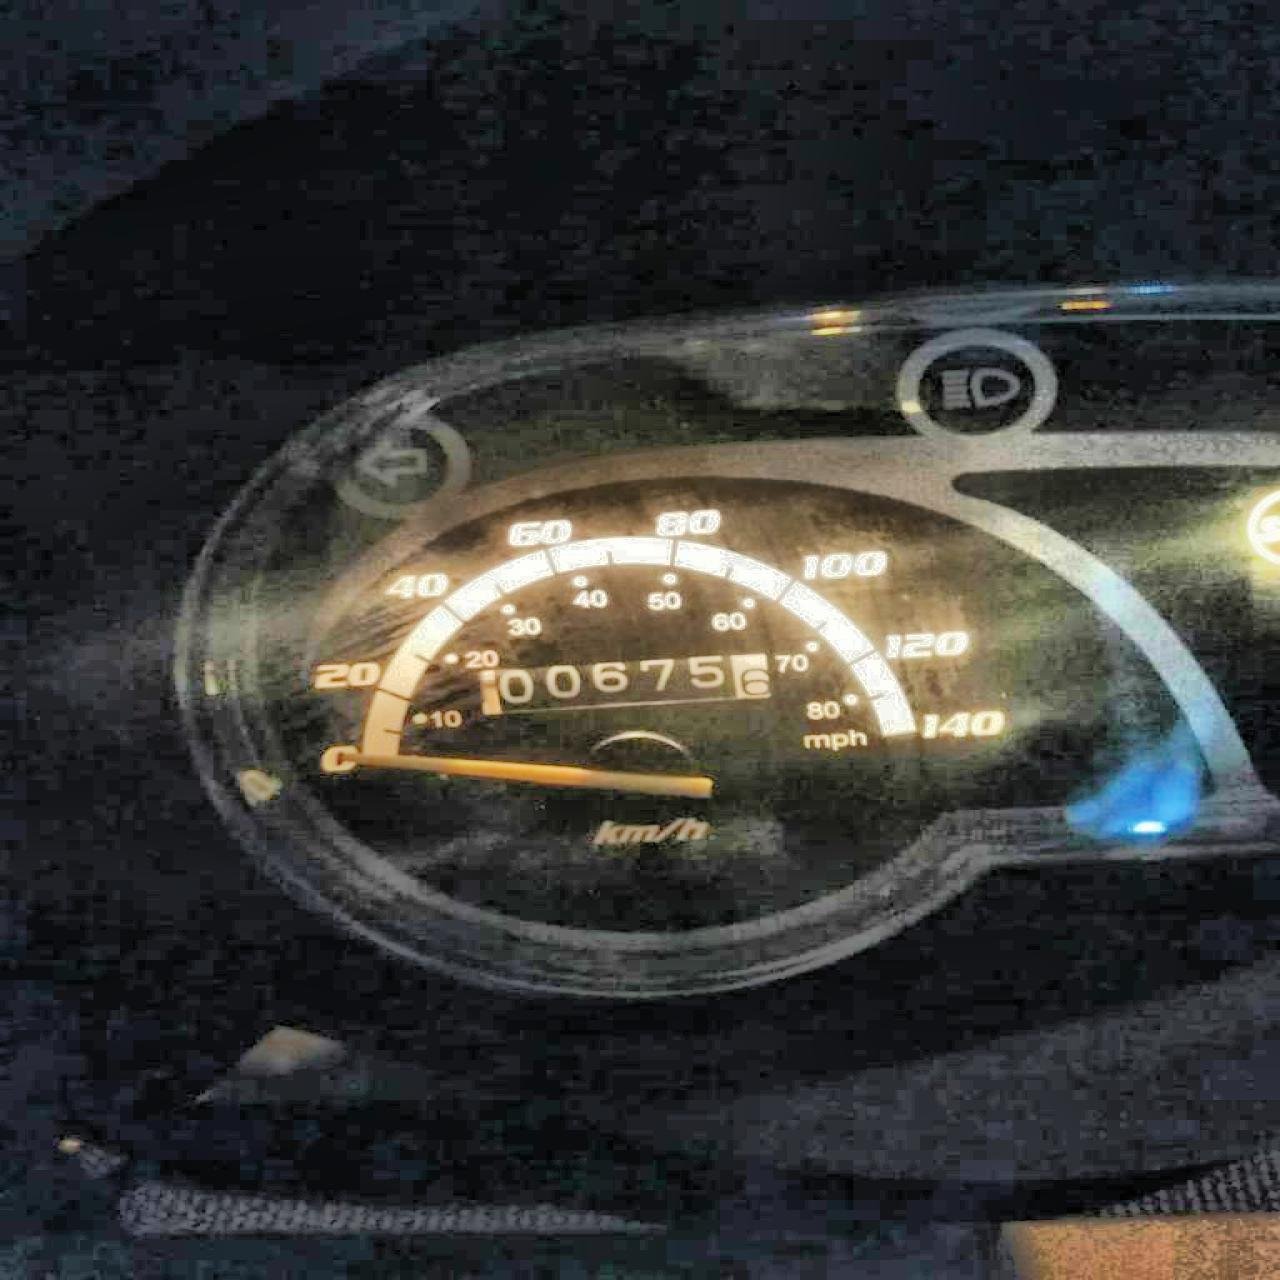0: (540, 662, 581, 699), (496, 667, 532, 702), (481, 648, 497, 666)
2: (468, 649, 479, 669)
5: (685, 652, 726, 689)
6: (591, 660, 627, 693), (737, 663, 770, 696)
7: (636, 656, 676, 693)
odometer: (470, 646, 777, 715)
